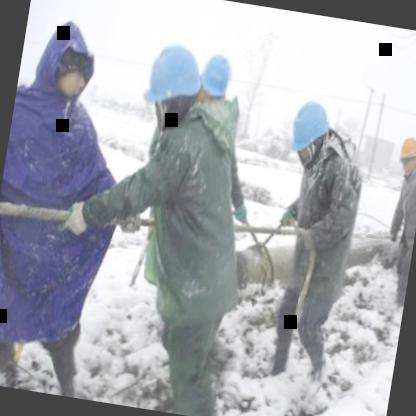helmet: (136, 34, 204, 138), (280, 90, 338, 180), (194, 47, 236, 110), (392, 131, 416, 178)
